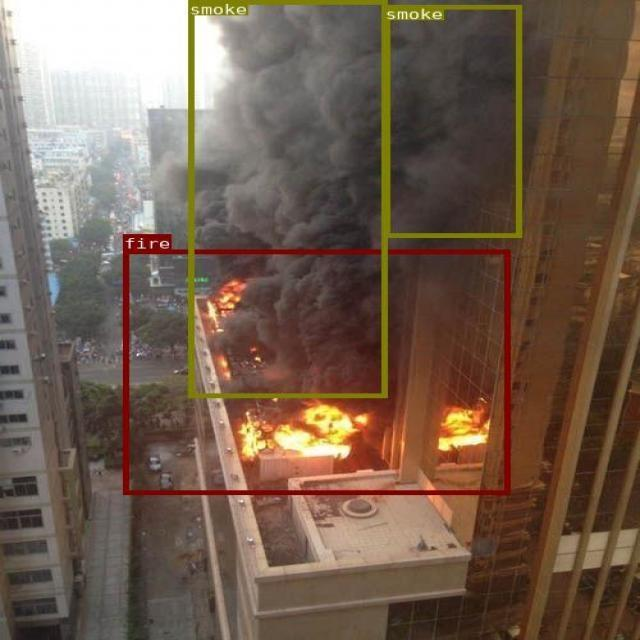fire: (123, 249, 509, 494)
smoke: (187, 0, 386, 397), (383, 4, 520, 237)
